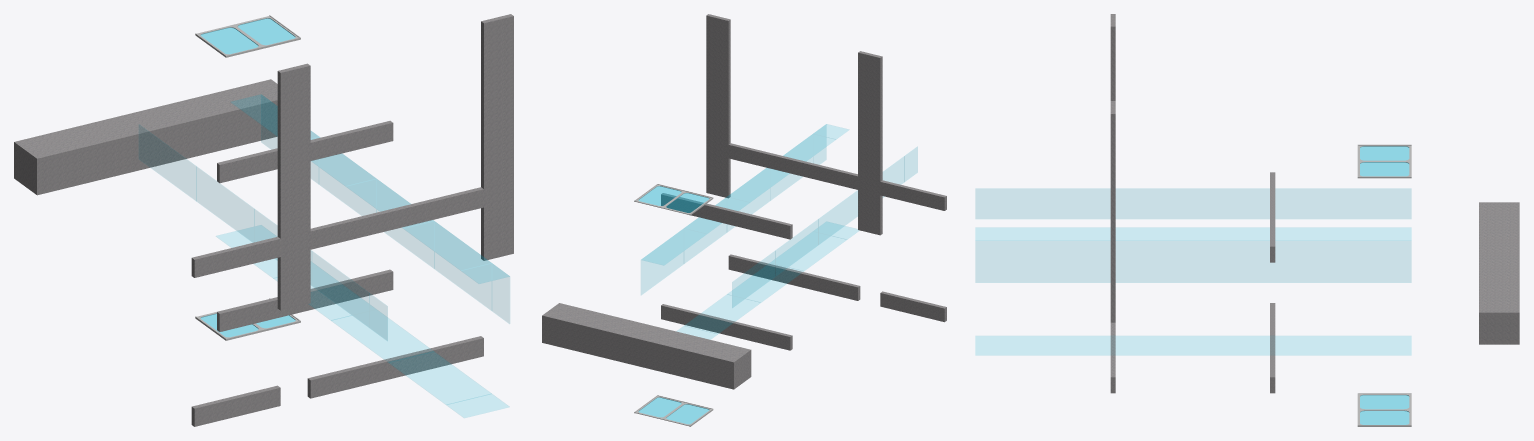
3 views of the same model, side by side, from view 1: azimuth 30°, elevation 25°; view 2: azimuth 150°, elevation 25°; view 3: azimuth 270°, elevation 25° (orthographic). The views are drawn at different scales.
Visible parts, largest first — view 1: 0_3_1_1_1_2; view 2: 0_3_1_1_1_2; view 3: 0_3_1_1_1_2.
Boxes of the visible parts, x1,y1,x2,y2 form: 0_3_1_1_1_2: [14, 14, 513, 426]; 0_3_1_1_1_2: [542, 14, 946, 426]; 0_3_1_1_1_2: [975, 14, 1519, 426].
Bounding box in the file's own units: 12.8 × 15 × 21.51.
37 materials, 13 textured.
